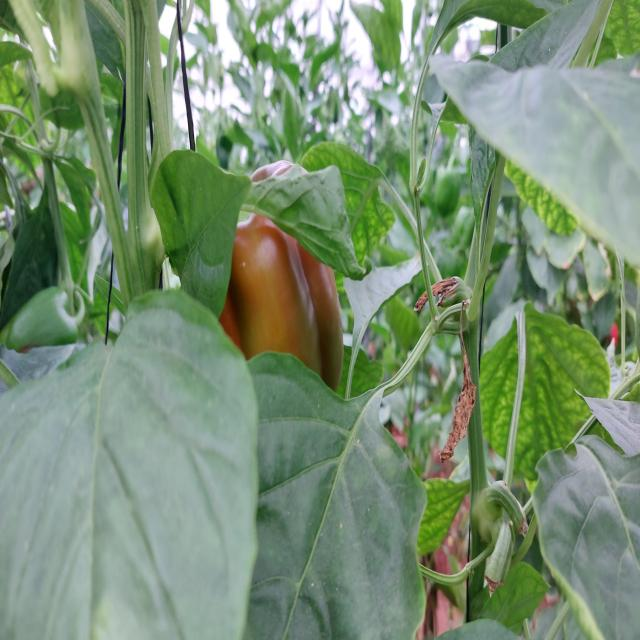BrownishRed--Can-be-Harvested: (214, 220, 350, 415)
